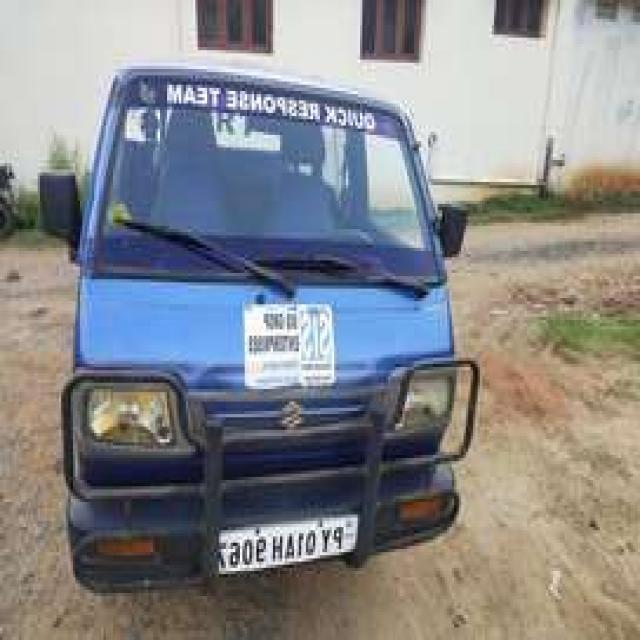license_plate: (212, 508, 362, 584)
